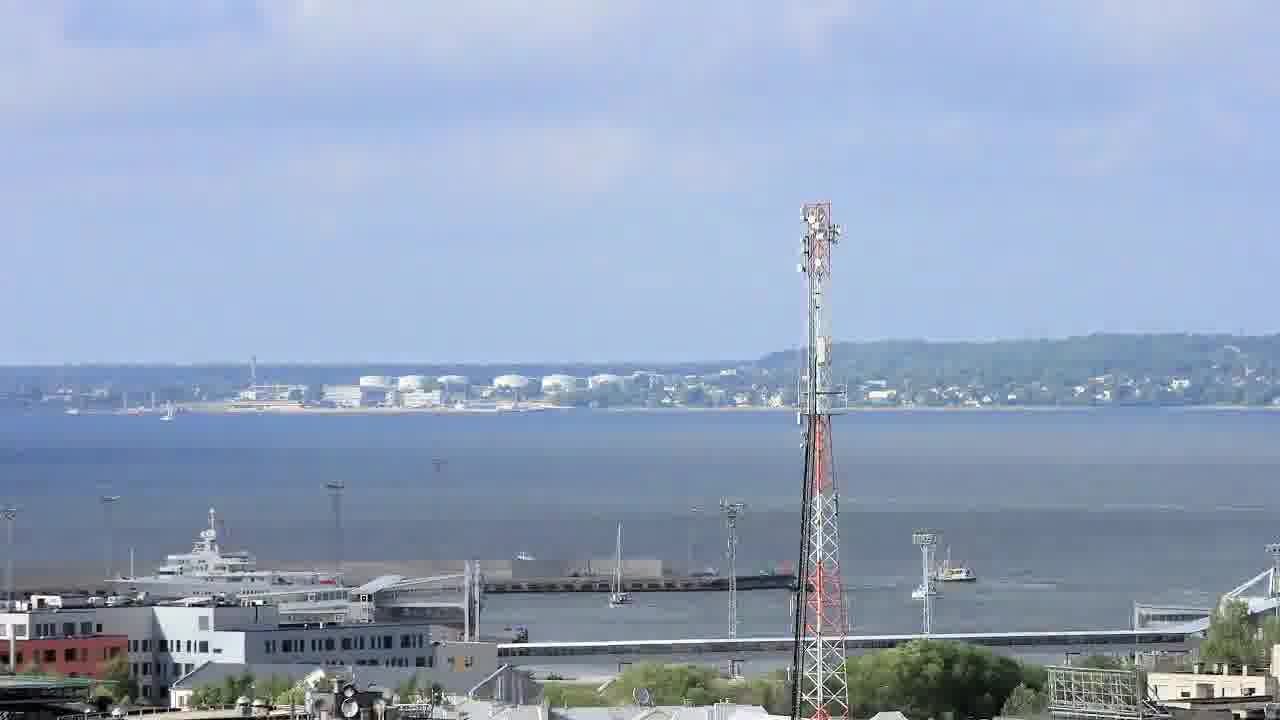type-0: (599, 567, 656, 622), (924, 547, 978, 587), (899, 569, 941, 609)
type-3: (75, 510, 353, 611)
